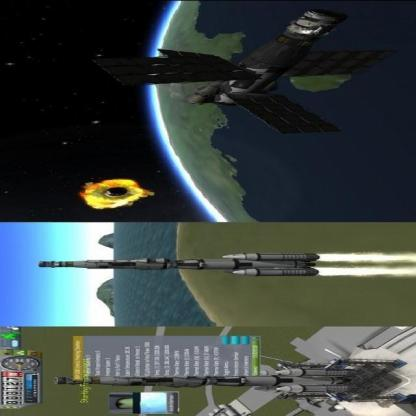MIL_TBM: (32, 258, 320, 268), (218, 250, 330, 260), (230, 266, 324, 277)
